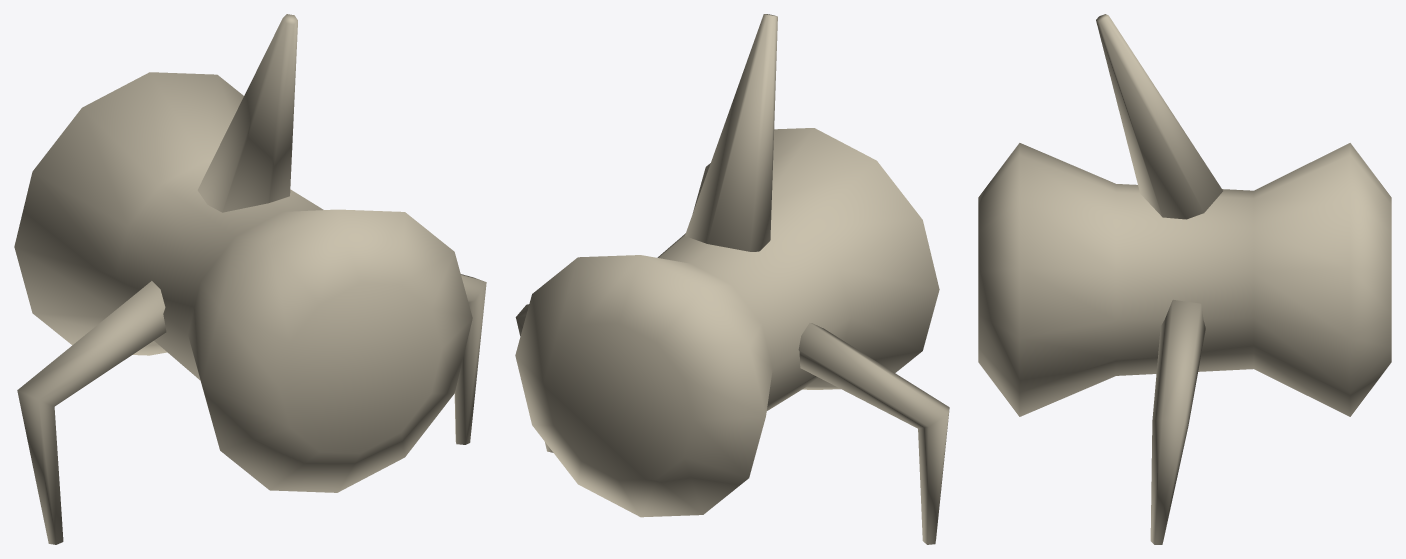
File: bone_serpent_body.glb
3 renders of one model, left to right at view 1: azimuth 30°, elevation 25°; view 2: azimuth 150°, elevation 25°; view 3: azimuth 270°, elevation 25°, orthographic. The views are drawn at different scales.
Visible parts, largest first — view 1: bone_serpent_body; view 2: bone_serpent_body; view 3: bone_serpent_body.
Part boxes in pixels (x1,y1,x2,y2): bone_serpent_body: (14, 14, 486, 544); bone_serpent_body: (515, 14, 949, 544); bone_serpent_body: (978, 14, 1391, 544).
Bounding box in the file's own units: 0.6835 × 0.7051 × 0.6.
